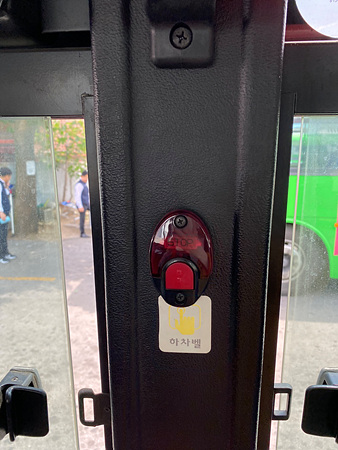bell: (150, 207, 212, 307)
